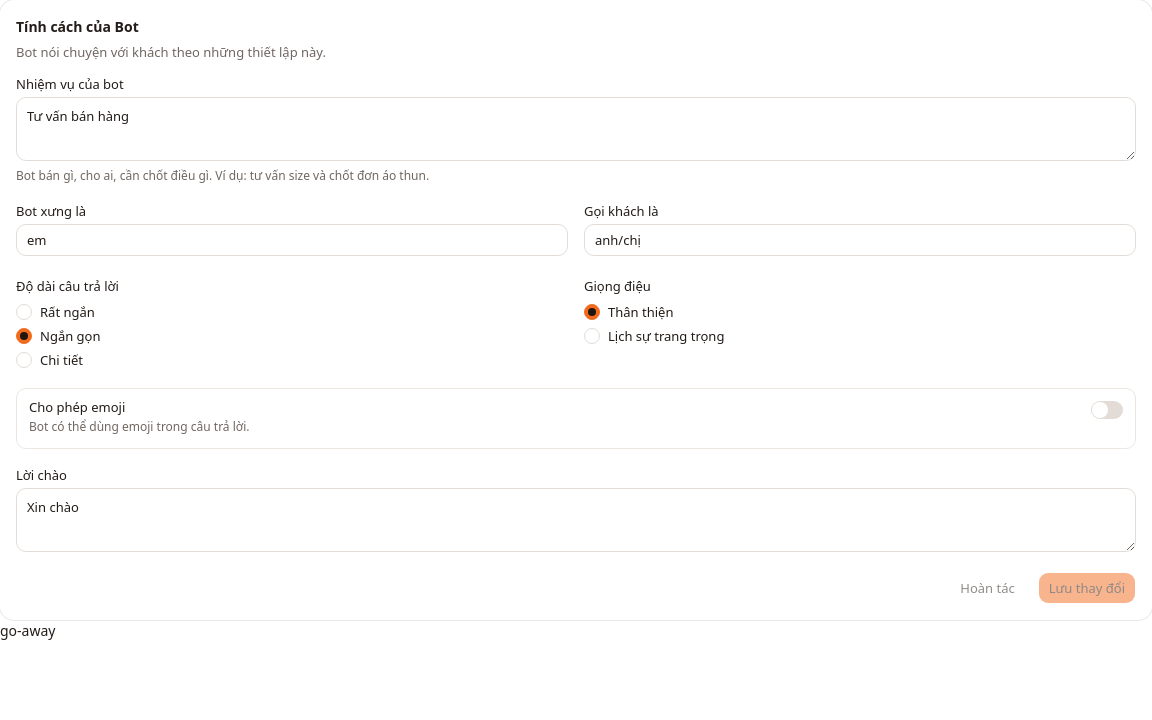
Test: PersonalityCard › asks before leaving with unsaved edits
Expected: the text box labelled "Nhiệm vụ của bot" is shown, x1=16 y1=97 x2=1136 y2=161
Type "!" into the text box labelled "Lời chào". click: (576, 520)
box: x1=16 y1=488 x2=1136 y2=552
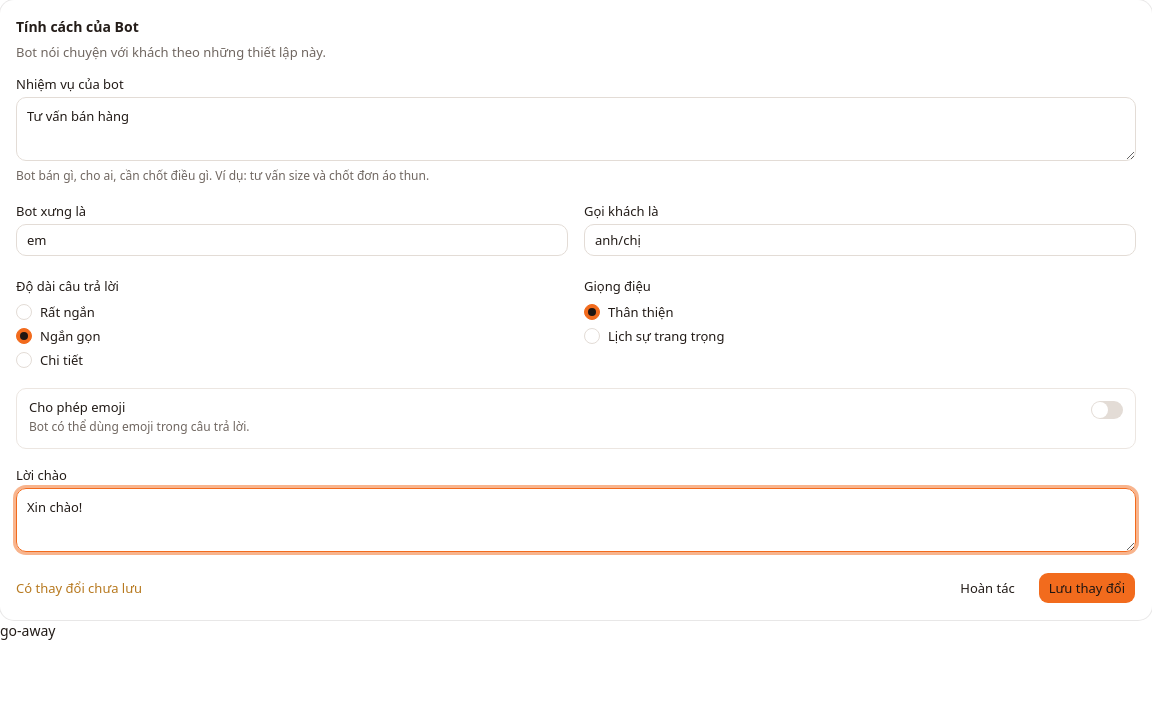
Click the link "go-away". click: (28, 630)
box: x1=0 y1=621 x2=56 y2=640
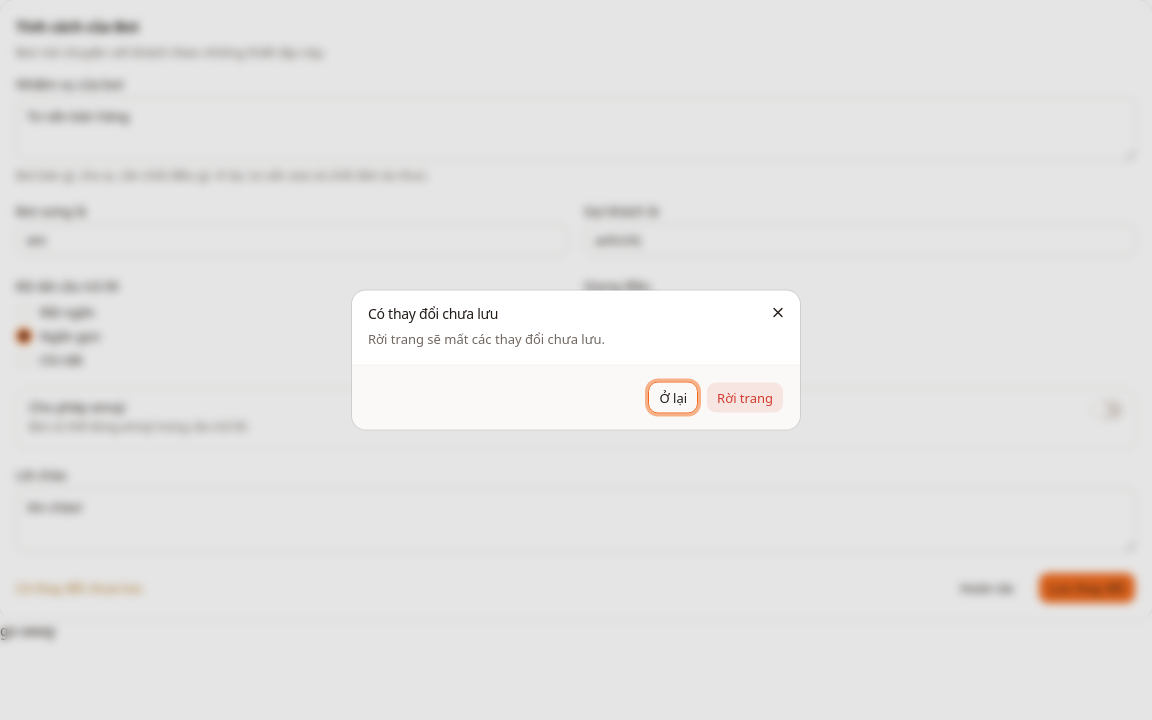
Result: the text "Rời trang sẽ mất các thay đổi chưa lưu." is shown at x1=368 y1=330 x2=605 y2=348
